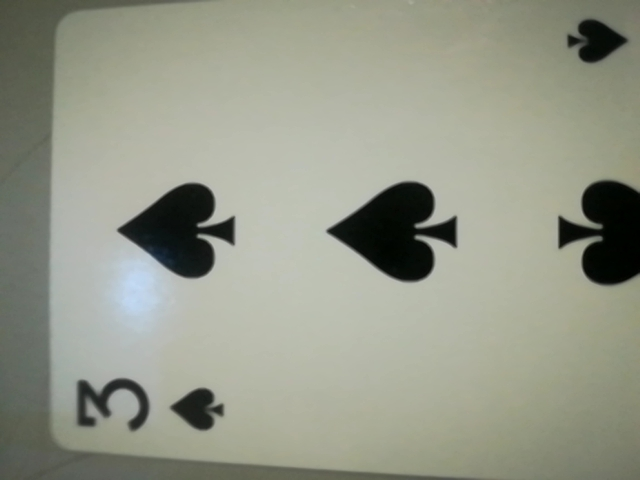ht 3: (58, 357, 245, 456)
